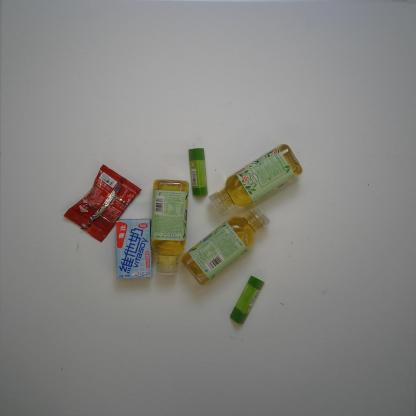Drink: (181, 206, 270, 286), (208, 143, 303, 214), (150, 179, 189, 275)
Instant Drink: (63, 163, 142, 244)
Milk: (115, 218, 153, 280)
Stationery: (230, 275, 264, 324), (188, 147, 207, 196)
